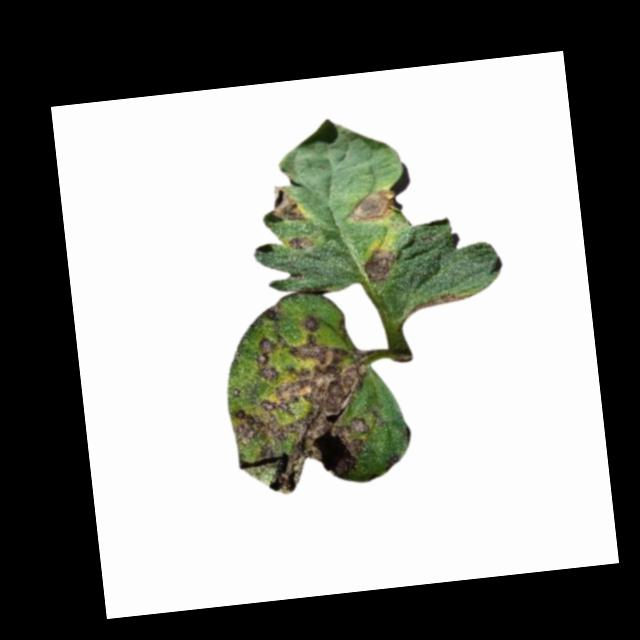Early_blight: (220, 308, 385, 497), (348, 185, 399, 226), (265, 184, 310, 224), (360, 245, 398, 284), (413, 290, 474, 313), (263, 300, 283, 323), (288, 235, 314, 250)
